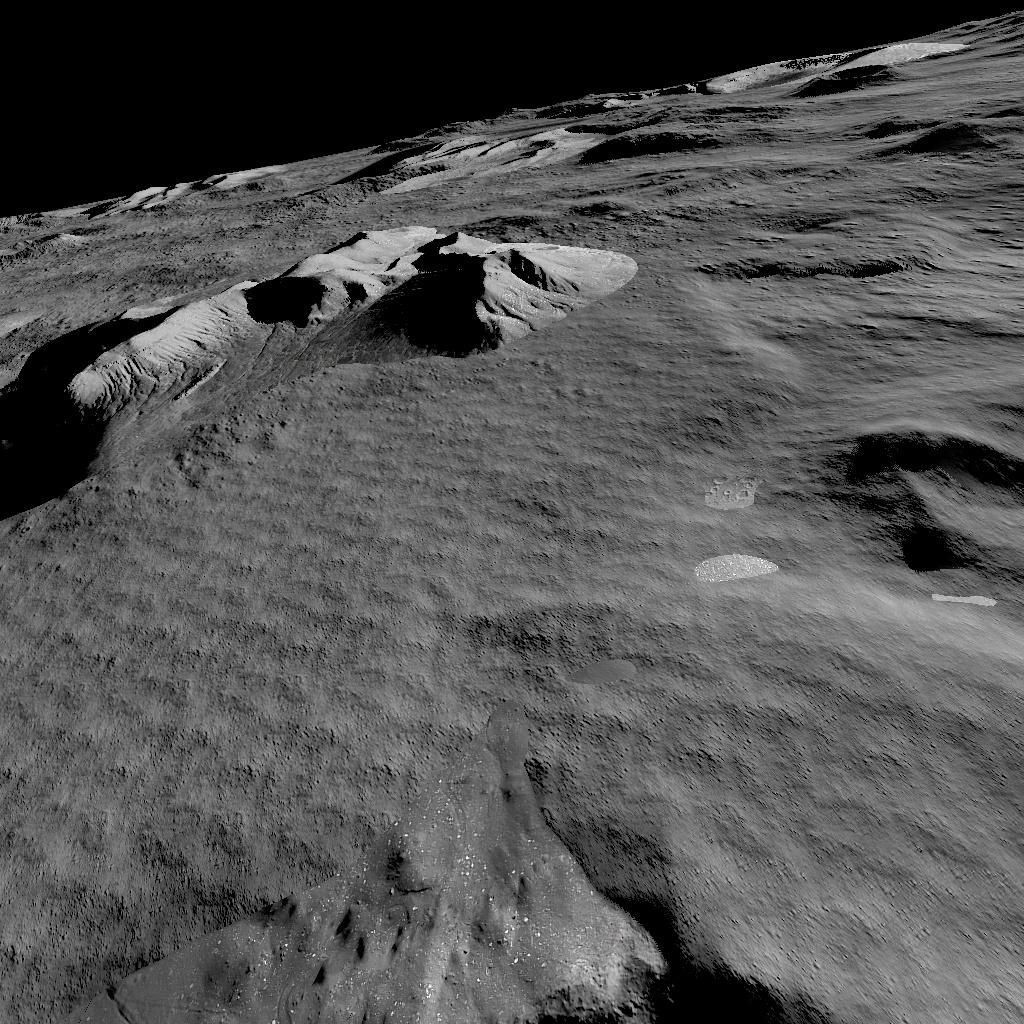Boulders: (4, 228, 636, 484), (329, 36, 1016, 188), (94, 156, 290, 214)
Crater: (0, 761, 1024, 1024), (803, 412, 1024, 597), (688, 242, 920, 300)
Plan surface: (0, 502, 763, 734)
